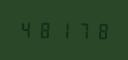eight: (36, 19, 53, 39), (90, 20, 107, 40)
four: (18, 19, 35, 39)
one: (54, 19, 71, 40)
seven: (72, 20, 89, 40)
